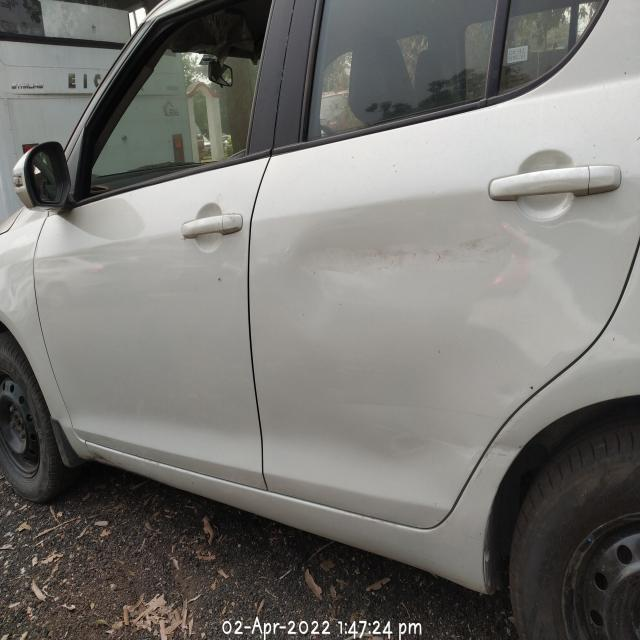damage: (313, 232, 529, 293)
